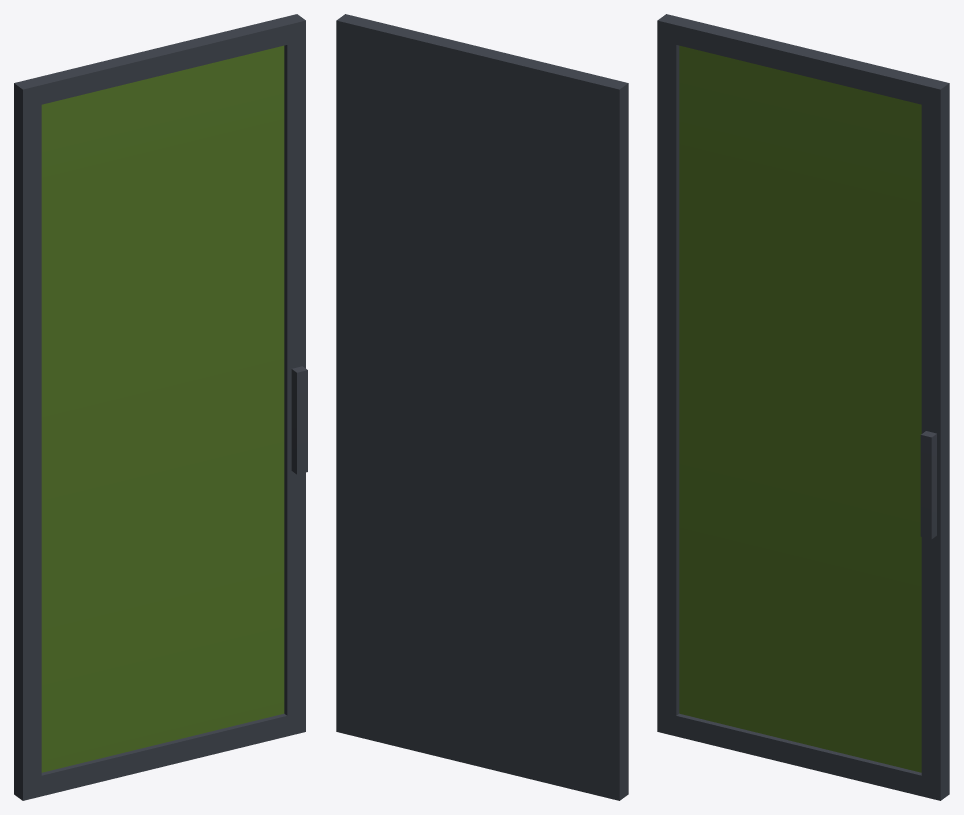
Rendered from House_51_Door01.fbx.
3 renders of one model, left to right at view 1: azimuth 30°, elevation 25°; view 2: azimuth 150°, elevation 25°; view 3: azimuth 330°, elevation 25°, orthographic.
Visible parts, largest first — view 1: House_51_Door01; view 2: House_51_Door01; view 3: House_51_Door01.
Boxes of the visible parts, x1,y1,x2,y2 form: House_51_Door01: [14, 14, 307, 800]; House_51_Door01: [336, 14, 628, 800]; House_51_Door01: [657, 14, 949, 800].
Size of the model in its own units: 0.9165 by 2.2 by 0.08.
